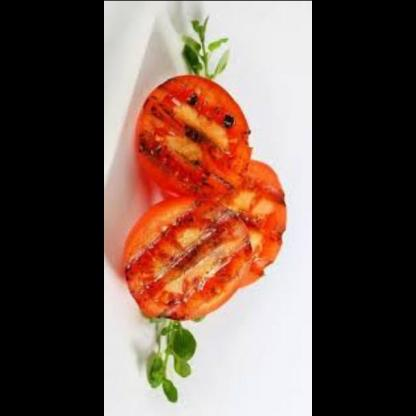tomato: (124, 193, 254, 320), (136, 72, 257, 196), (214, 156, 292, 290)
